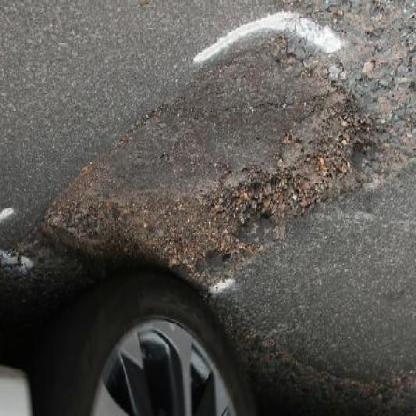pothole: (39, 79, 366, 290)
